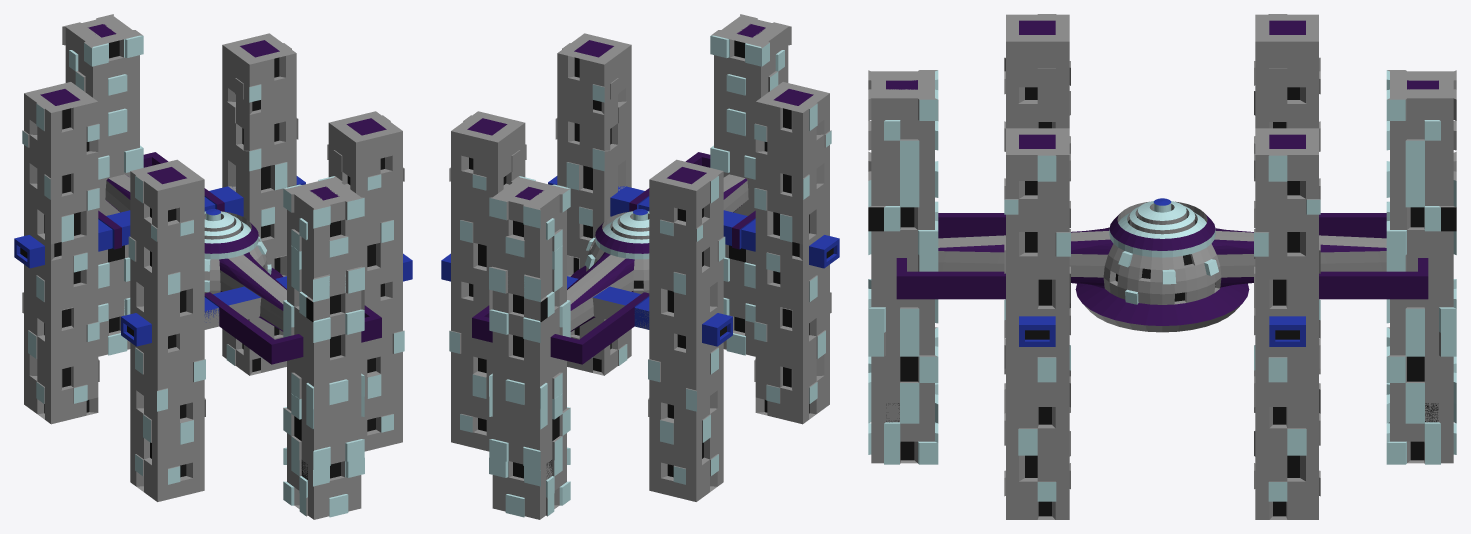
Rendered from Starbase_2_.fbx.
The picture shows the model from 3 angles, left to right: view 1: azimuth 30°, elevation 25°; view 2: azimuth 150°, elevation 25°; view 3: azimuth 270°, elevation 25°; orthographic projection. The views are drawn at different scales.
Visible parts, largest first — view 1: Cube, Sphere; view 2: Cube, Sphere; view 3: Cube, Sphere.
Boxes of the visible parts, <box> form: Cube: <box>14,14,412,519</box>; Sphere: <box>105,174,286,331</box>; Cube: <box>441,14,839,519</box>; Sphere: <box>567,174,748,331</box>; Cube: <box>868,14,1456,519</box>; Sphere: <box>938,198,1386,332</box>.
Size of the model in its own units: 586 by 631 by 923.
